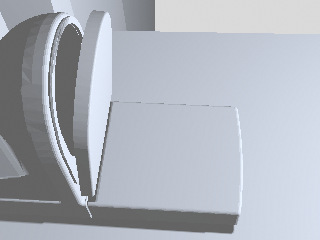lid_1: (73, 11, 111, 200)
